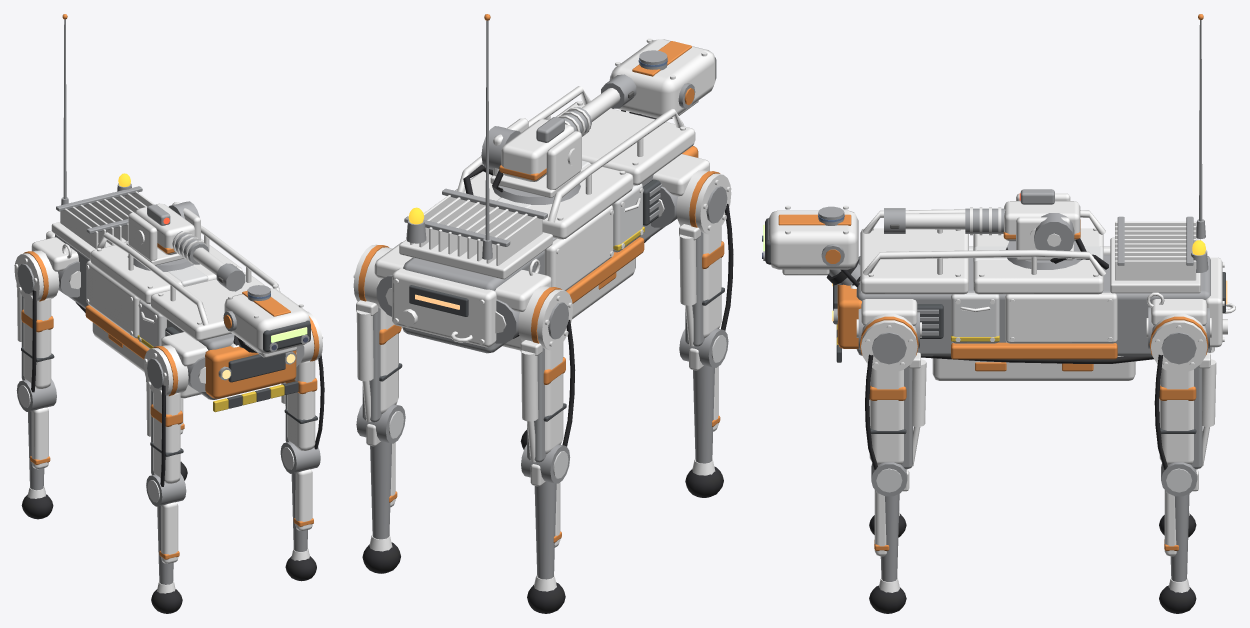
Rendered from hound.glb.
3 renders of one model, left to right at view 1: azimuth 30°, elevation 25°; view 2: azimuth 150°, elevation 25°; view 3: azimuth 270°, elevation 25°, orthographic. The views are drawn at different scales.
Visible parts, largest first — view 1: shell (×12), metal (×13); view 2: shell (×13), metal (×13); view 3: shell (×10), metal (×9).
Boxes of the visible parts, x1,y1,x2,y2 form: shell (×12): [14, 202, 324, 613]; metal (×13): [14, 19, 322, 593]; shell (×13): [353, 39, 733, 613]; metal (×13): [353, 20, 731, 591]; shell (×10): [765, 193, 1225, 613]; metal (×9): [762, 20, 1235, 592].
Bounding box in the file's own units: 0.579 × 1.66 × 1.31.
